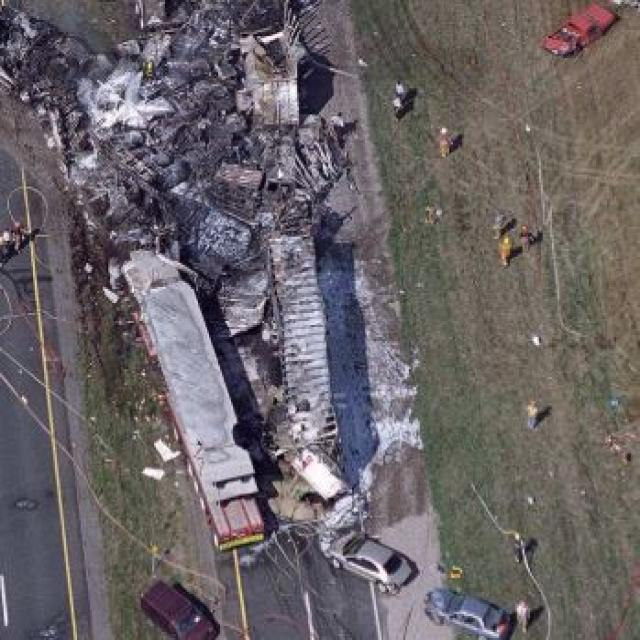traffic_incident: (4, 2, 376, 568)
